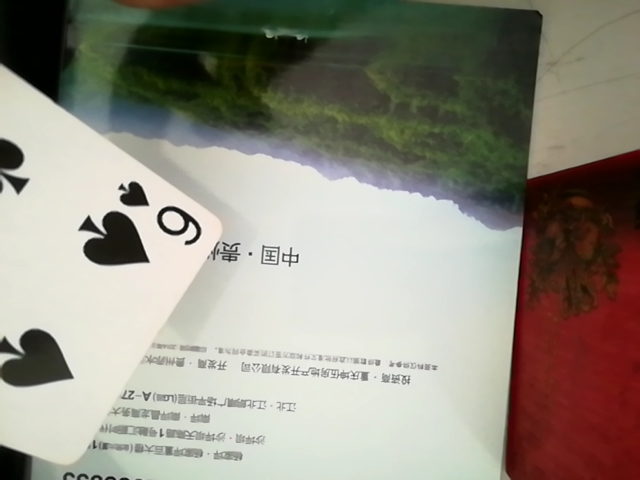ht 6: (0, 27, 226, 479)
